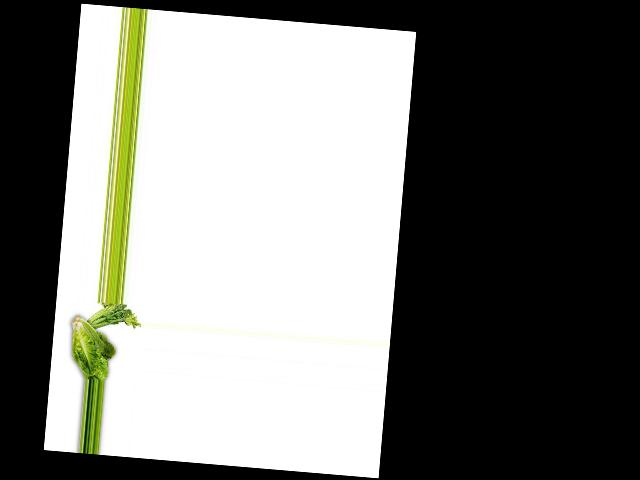lettuce: (69, 312, 123, 382)
